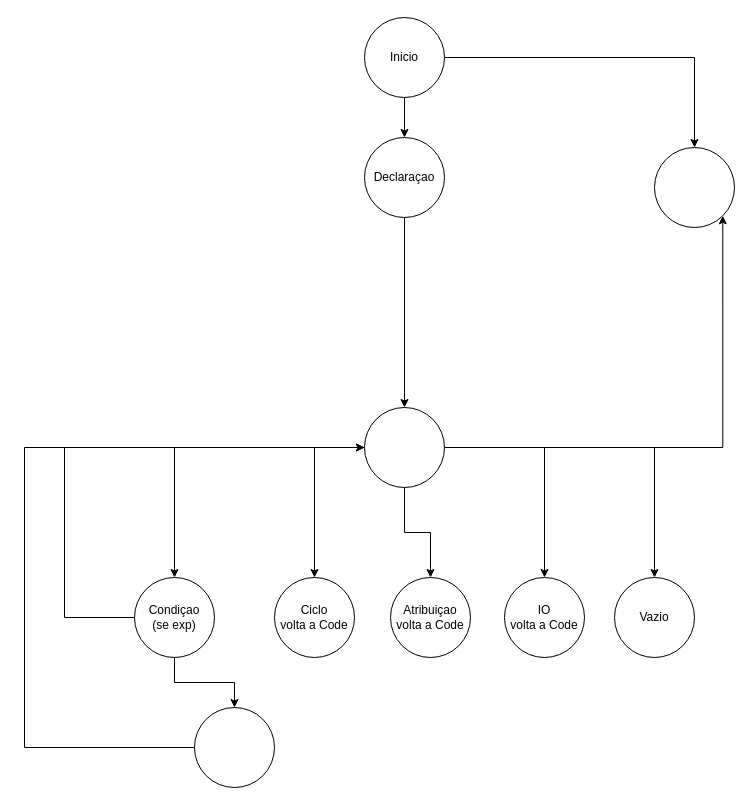
Some shapes in this 752 by 805 pixel diagram are drawn without their labels. The shapes that lost their labels are listed below. From the top down, each one's box as (x1, y1, x2, y2) in pixels, then its label:
(654, 146, 734, 228): Fim
(364, 406, 444, 488): Code
(194, 706, 274, 788): senao
